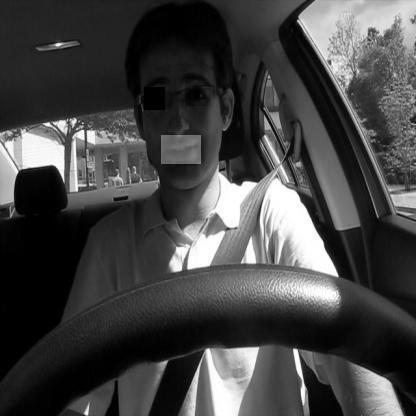seatbelt: (117, 0, 309, 416)
